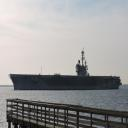Portanaves: (9, 47, 124, 92)
